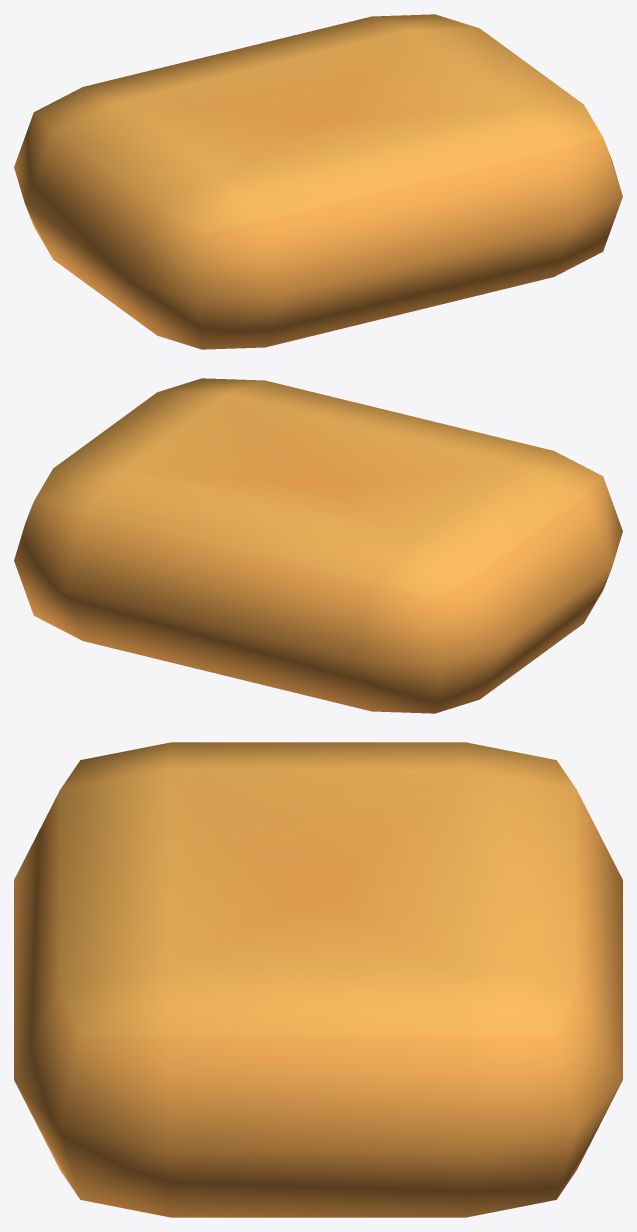
The picture shows the model from 3 angles, top to bottom: view 1: azimuth 30°, elevation 25°; view 2: azimuth 150°, elevation 25°; view 3: azimuth 270°, elevation 25°; orthographic projection. The views are drawn at different scales.
Parts seen in each view (by area): view 1: pillow_A; view 2: pillow_A; view 3: pillow_A.
Part boxes in pixels (bbox=[...]): pillow_A: bbox=[14, 14, 622, 349]; pillow_A: bbox=[14, 378, 622, 713]; pillow_A: bbox=[14, 742, 622, 1217].
Bounding box in the file's own units: 0.65 × 0.2 × 0.5.
Materials: 1 (1 with a texture image).
